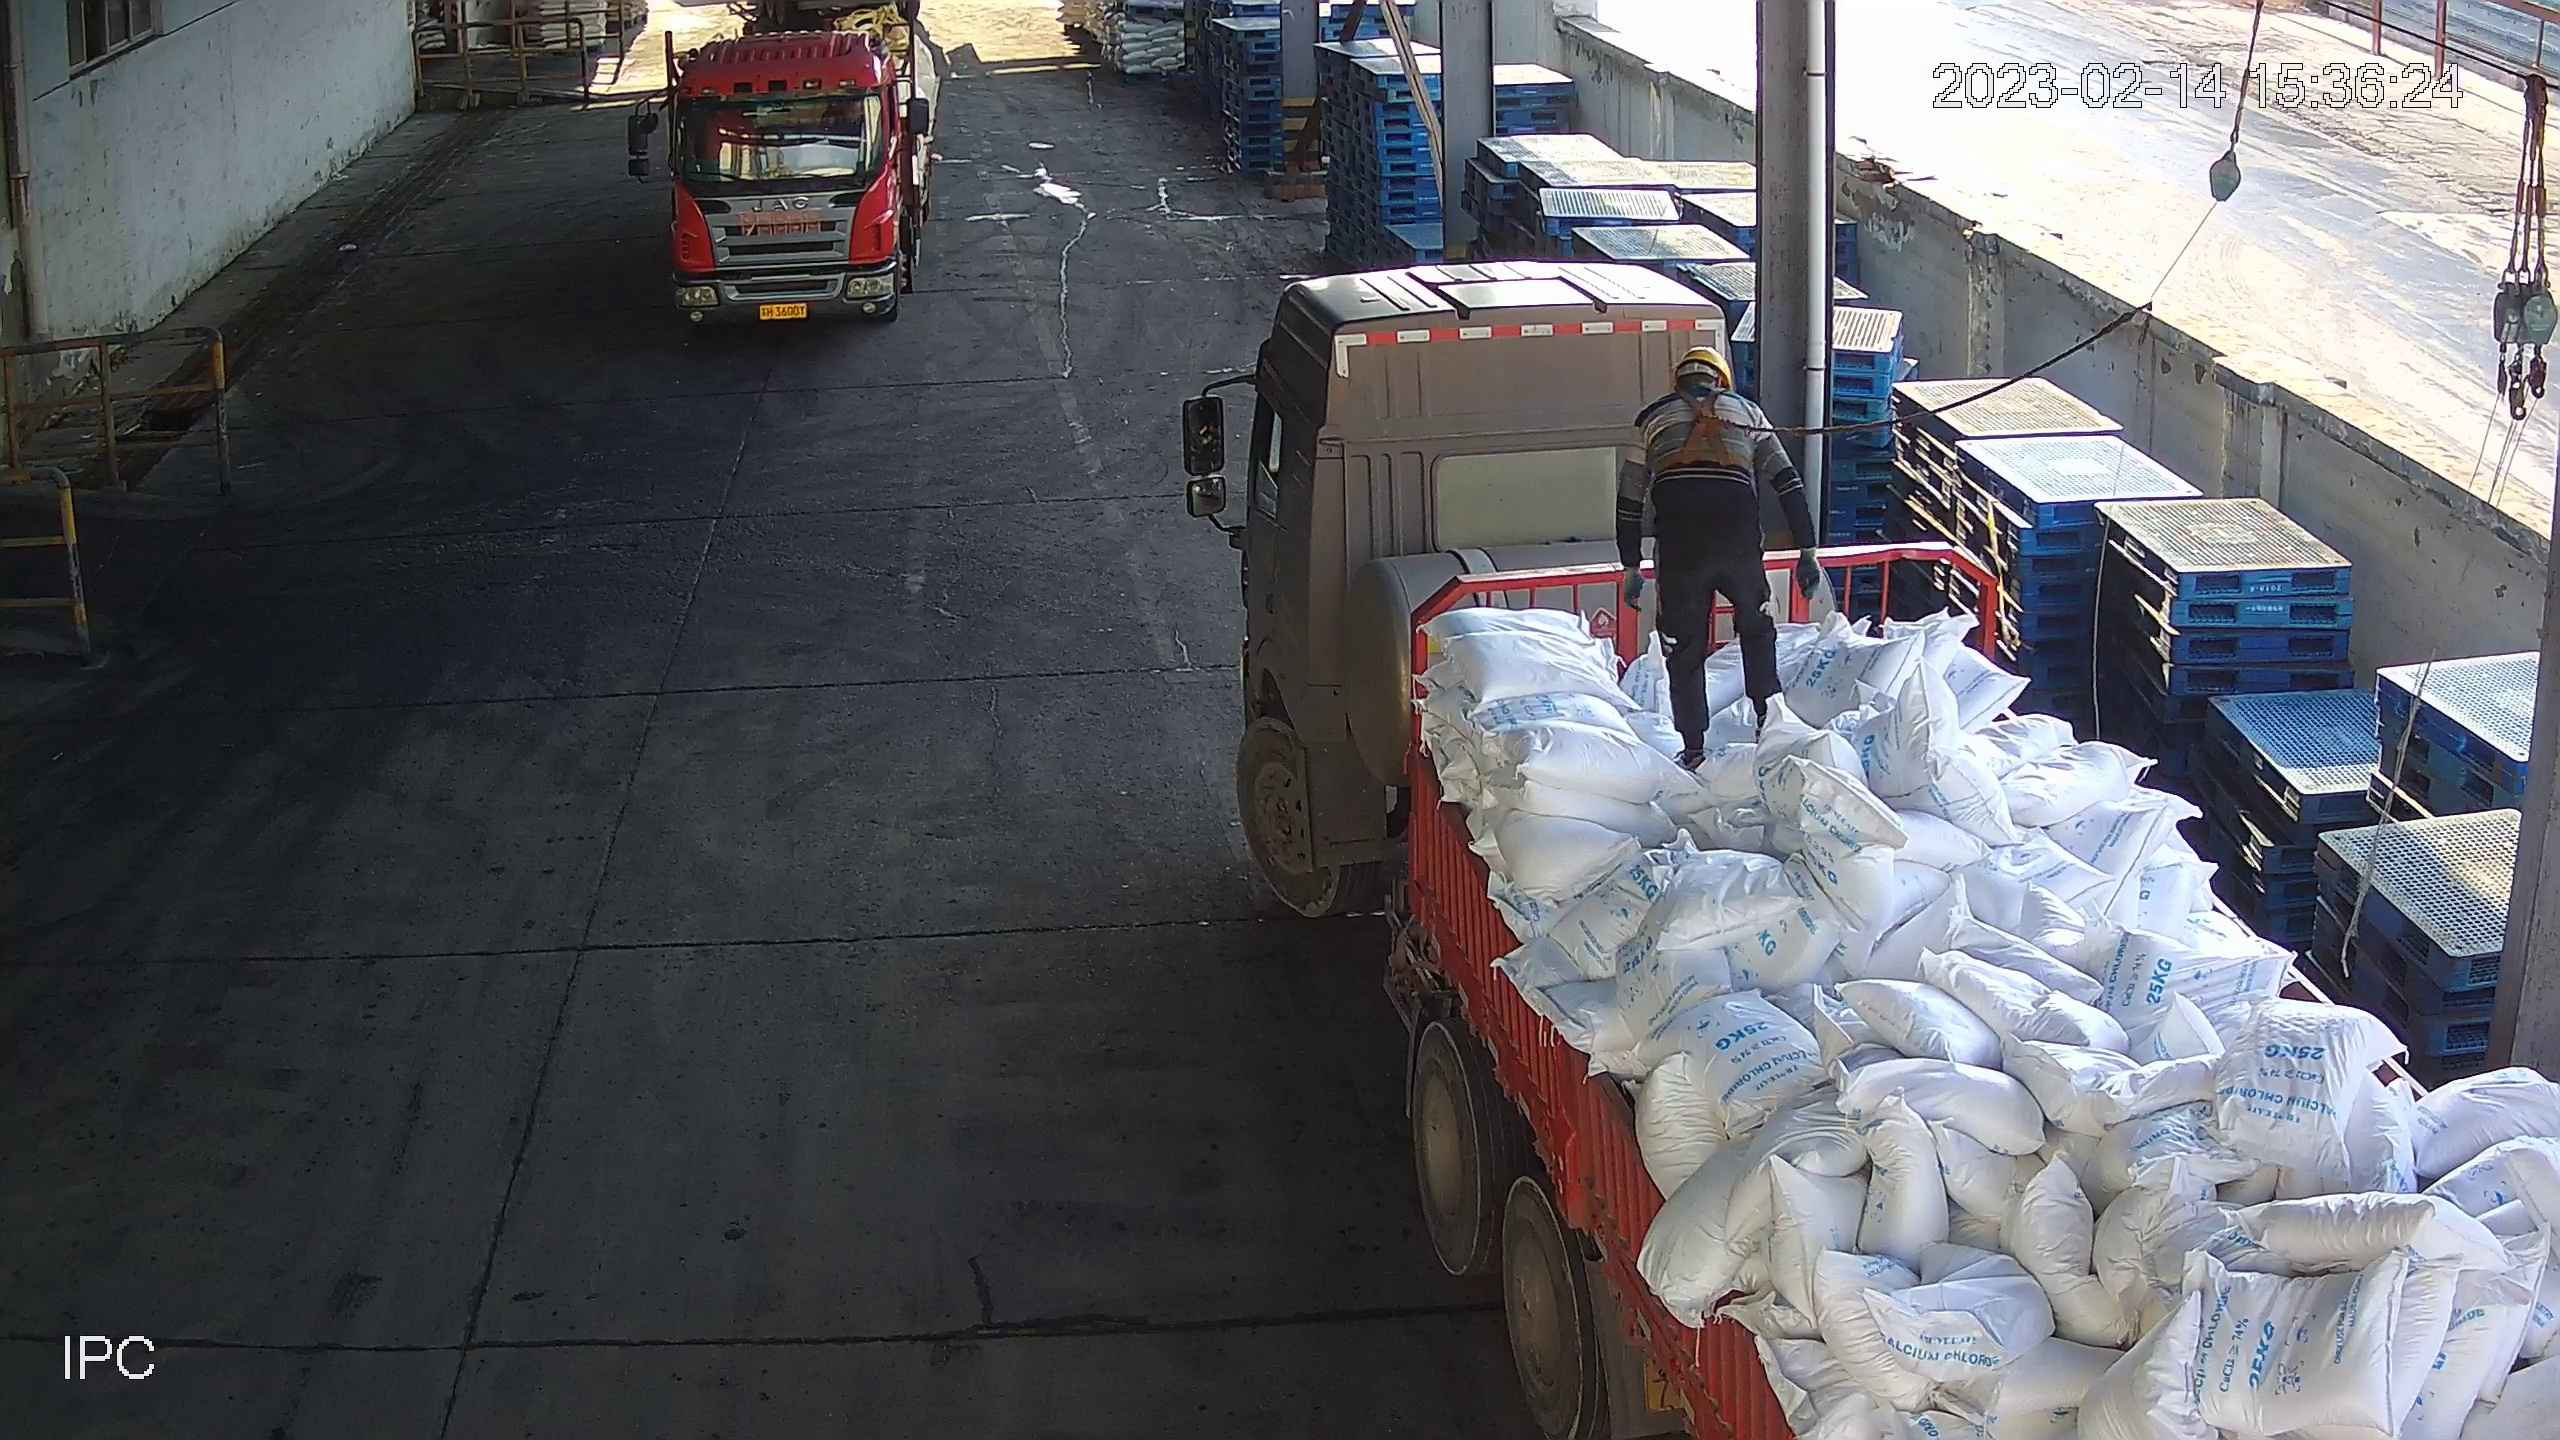belt: (1662, 381, 1757, 473)
head: (1612, 340, 1792, 460)
helmet: (1675, 340, 1738, 386)
people: (1605, 342, 1809, 749)
truck: (1181, 258, 2560, 1440), (629, 5, 946, 342)
